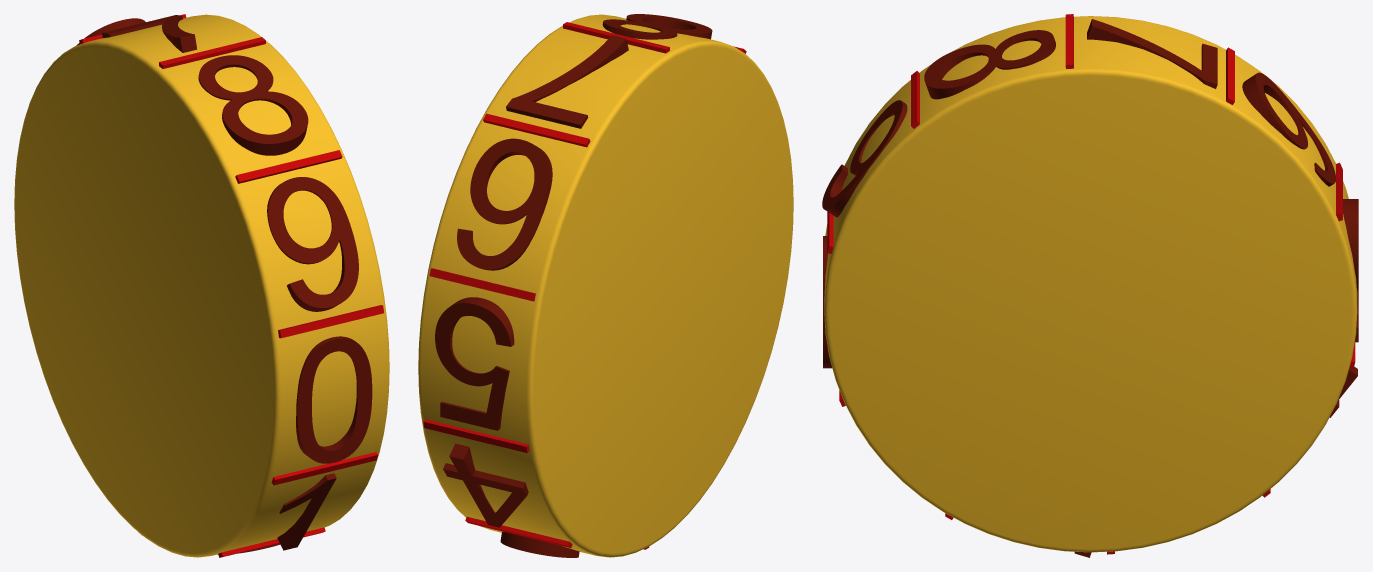
File: Lock.fbx
3 views of the same model, side by side, from view 1: azimuth 30°, elevation 25°; view 2: azimuth 150°, elevation 25°; view 3: azimuth 270°, elevation 25° (orthographic).
Parts seen in each view (by area): view 1: Cylinder001, Text010, Text009, Text001, Text002, Text008, Box010, Box001, Box002, Box009; view 2: Cylinder001, Text007, Text006, Text008, Text005, Text009, Box008, Text004, Box006, Box007, Box009, Box005; view 3: Cylinder001, Text009, Text007, Text010, Text008, Text006.
Part boxes in pixels (x1,y1,x2,y2): Cylinder001: (14,14,389,557); Text010: (267,177,358,311); Text009: (198,55,308,155); Text001: (296,336,372,463); Text002: (277,473,336,550); Text008: (102,15,197,52); Box010: (235,150,342,183); Box001: (278,305,383,338); Box002: (271,452,377,485); Box009: (159,37,265,68); Cylinder001: (418,14,793,557); Text007: (457,138,552,270); Text006: (435,297,514,430); Text008: (506,35,628,128); Text005: (443,443,528,527); Text009: (602,14,712,39); Box008: (483,113,590,147); Text004: (500,532,579,557); Box006: (423,419,529,452); Box007: (429,268,535,301); Box009: (563,22,669,53); Box005: (465,516,572,547); Cylinder001: (824,16,1357,552); Text009: (924,30,1055,99); Text007: (1242,72,1335,186); Text010: (822,100,907,217); Text008: (1087,19,1217,88); Text006: (1343,199,1358,342).
Size of the model in its own units: 50 by 211 by 201.
